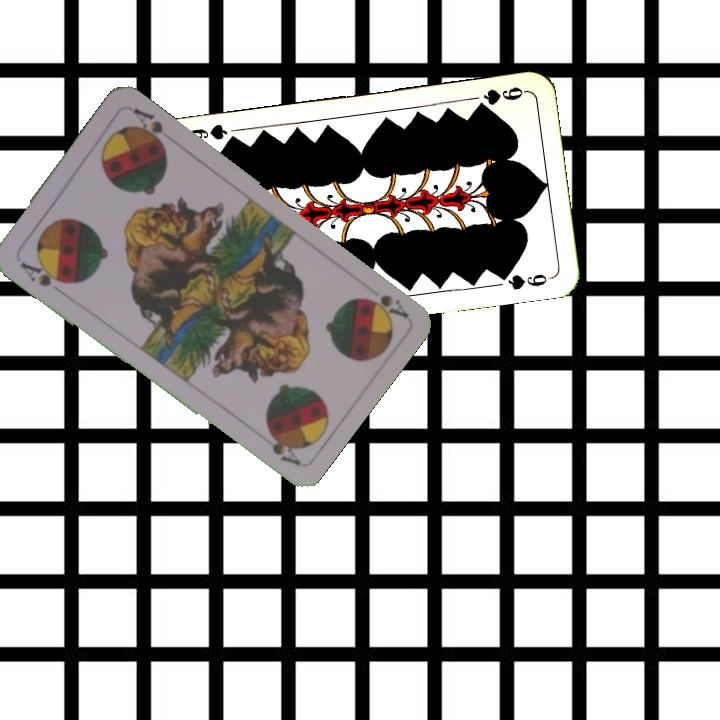G9: (471, 83, 529, 113)
SA: (16, 257, 71, 290), (358, 290, 411, 323)
